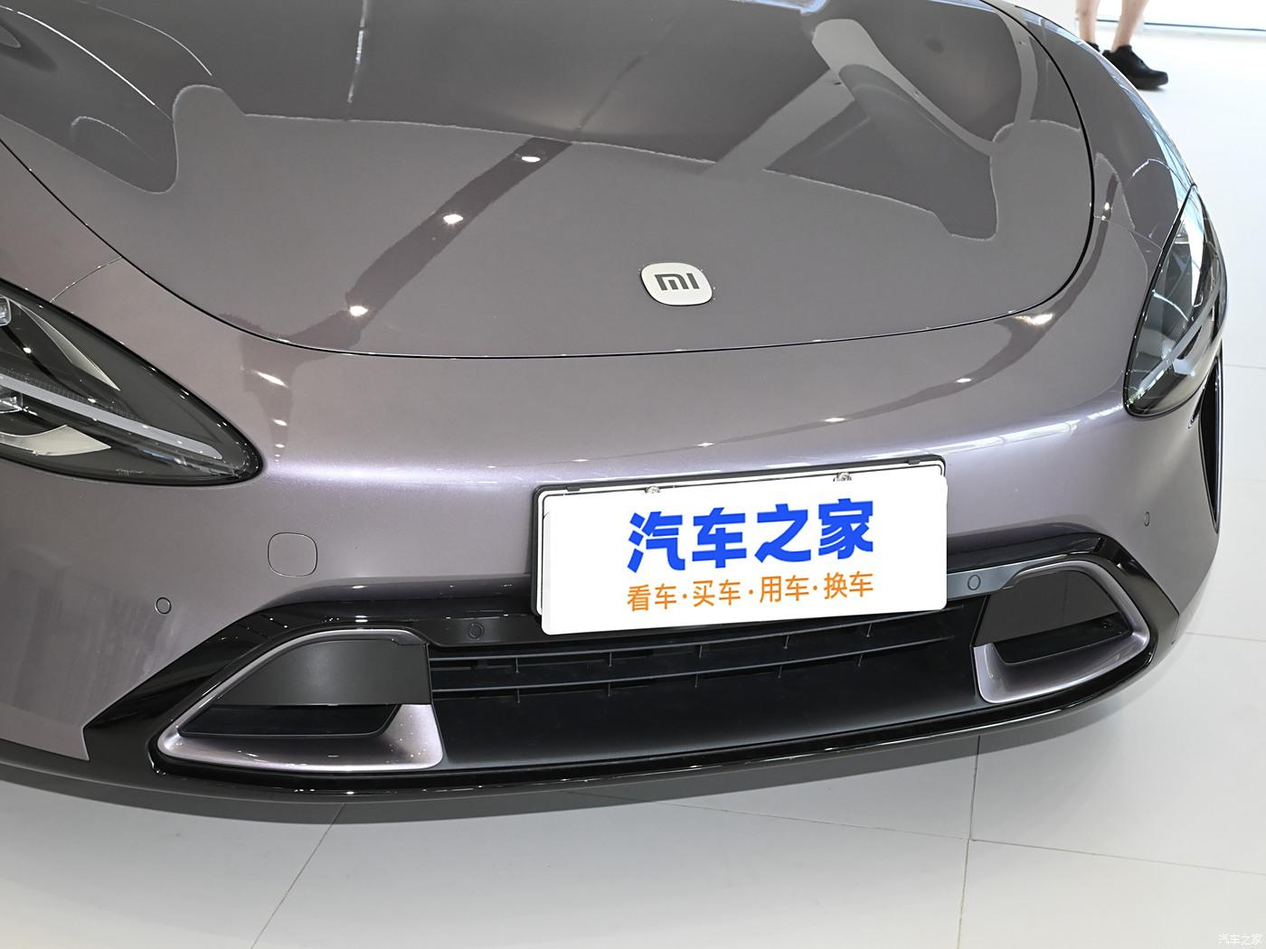XIAOMI: (640, 260, 713, 306)
